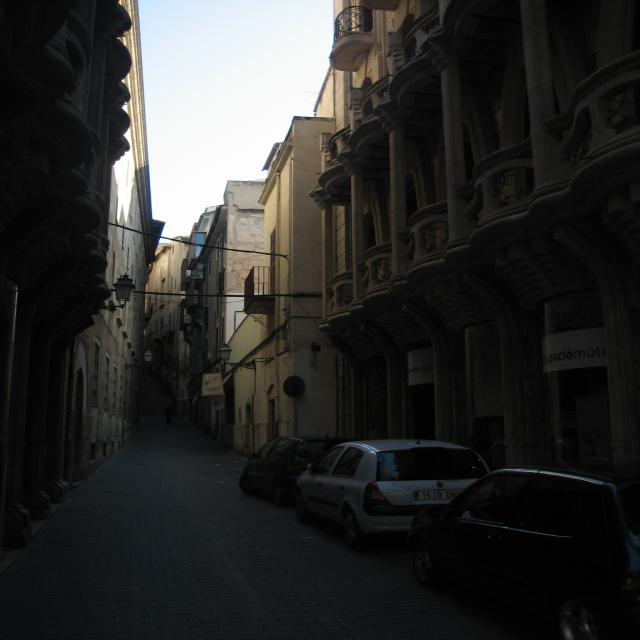Car: (240, 423, 640, 624)
